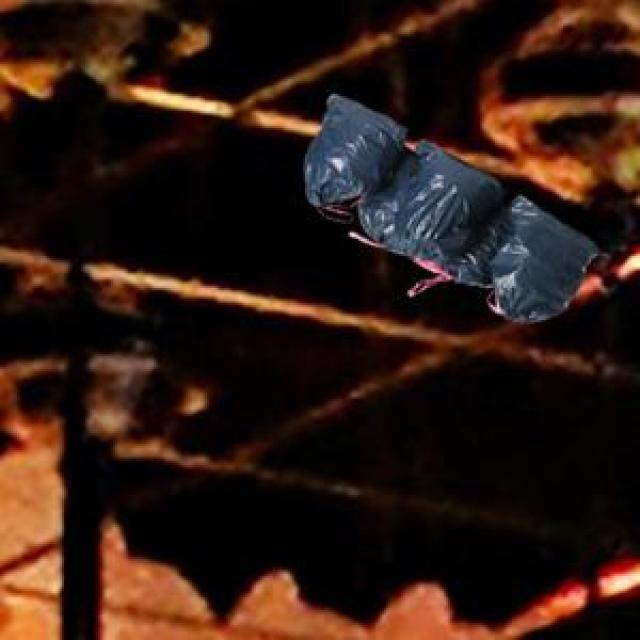Vinyl: (305, 95, 598, 322)
